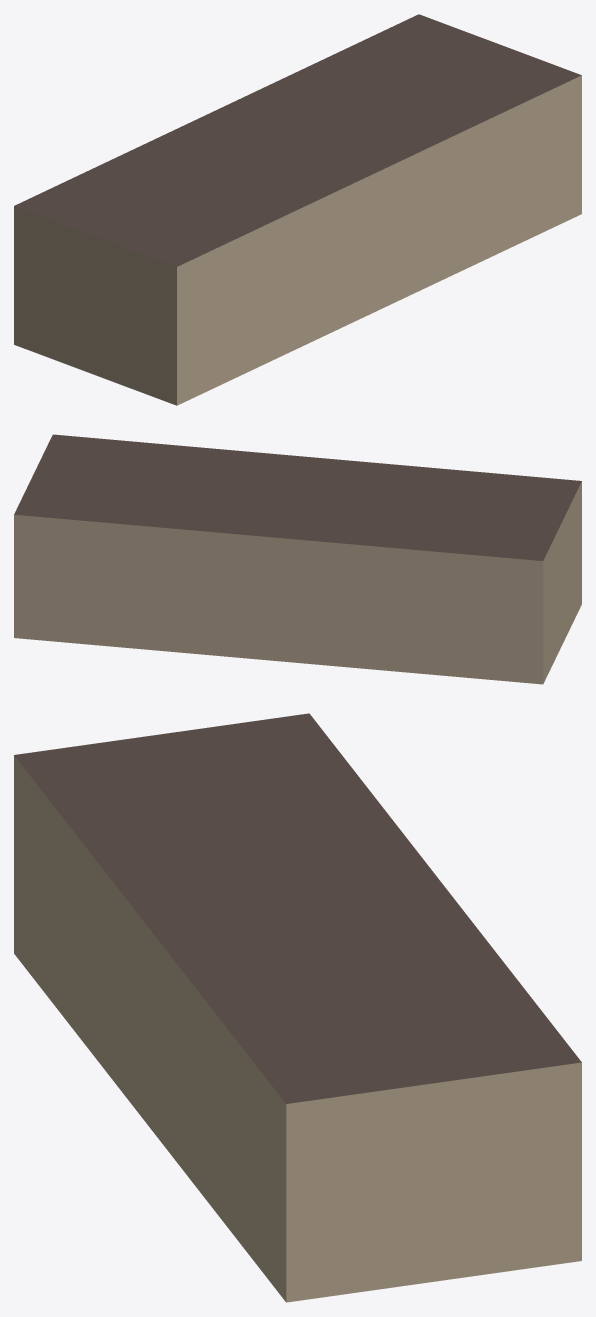
3 renders of one model, top to bottom at view 1: azimuth 30°, elevation 25°; view 2: azimuth 150°, elevation 25°; view 3: azimuth 270°, elevation 25°, orthographic. The views are drawn at different scales.
Parts seen in each view (by area): view 1: HP-w1154862079; view 2: HP-w1154862079; view 3: HP-w1154862079.
Part boxes in pixels (box(x1,y1,x2,y2)): HP-w1154862079: box(14, 14, 581, 405); HP-w1154862079: box(14, 434, 581, 684); HP-w1154862079: box(14, 713, 581, 1302).
Size of the model in its own units: 37.99 by 9 by 23.34.
